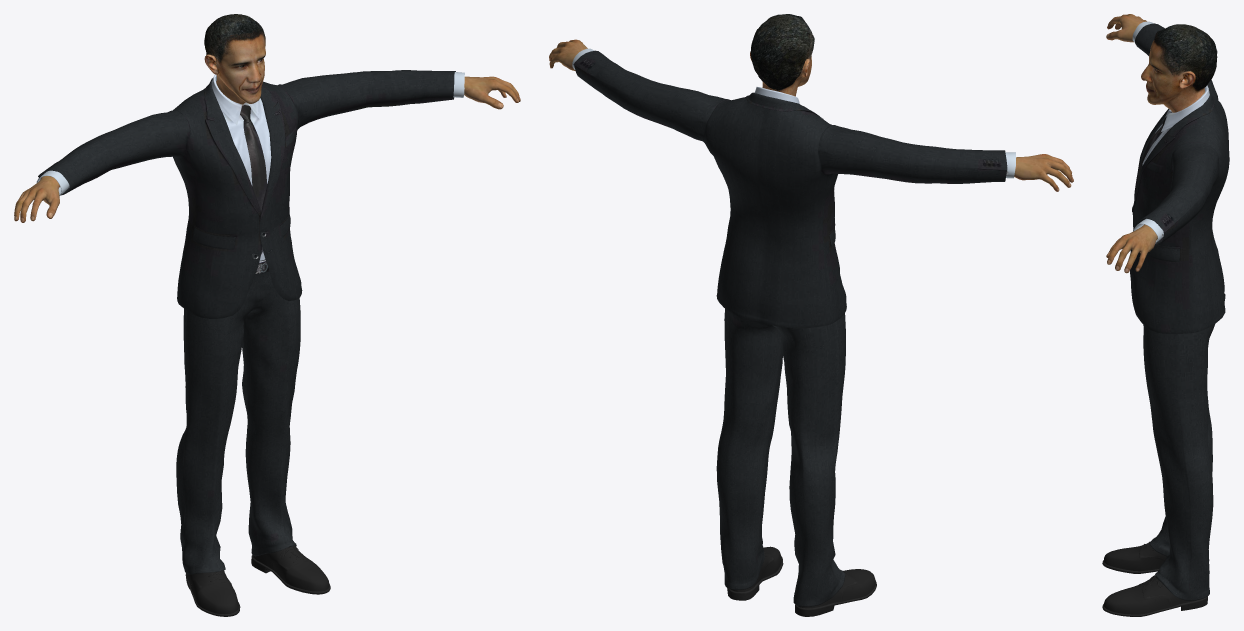
3 renders of one model, left to right at view 1: azimuth 30°, elevation 25°; view 2: azimuth 150°, elevation 25°; view 3: azimuth 270°, elevation 25°, orthographic. The views are drawn at different scales.
Parts seen in each view (by area): view 1: NanGongMo_aobama_mod; view 2: NanGongMo_aobama_mod; view 3: NanGongMo_aobama_mod.
Boxes of the visible parts, bbox=[...] form: NanGongMo_aobama_mod: bbox=[14, 14, 520, 616]; NanGongMo_aobama_mod: bbox=[549, 14, 1073, 616]; NanGongMo_aobama_mod: bbox=[1102, 14, 1229, 616].
Bounding box in the file's own units: 172 × 184 × 37.84.
5 materials, 5 textured.
